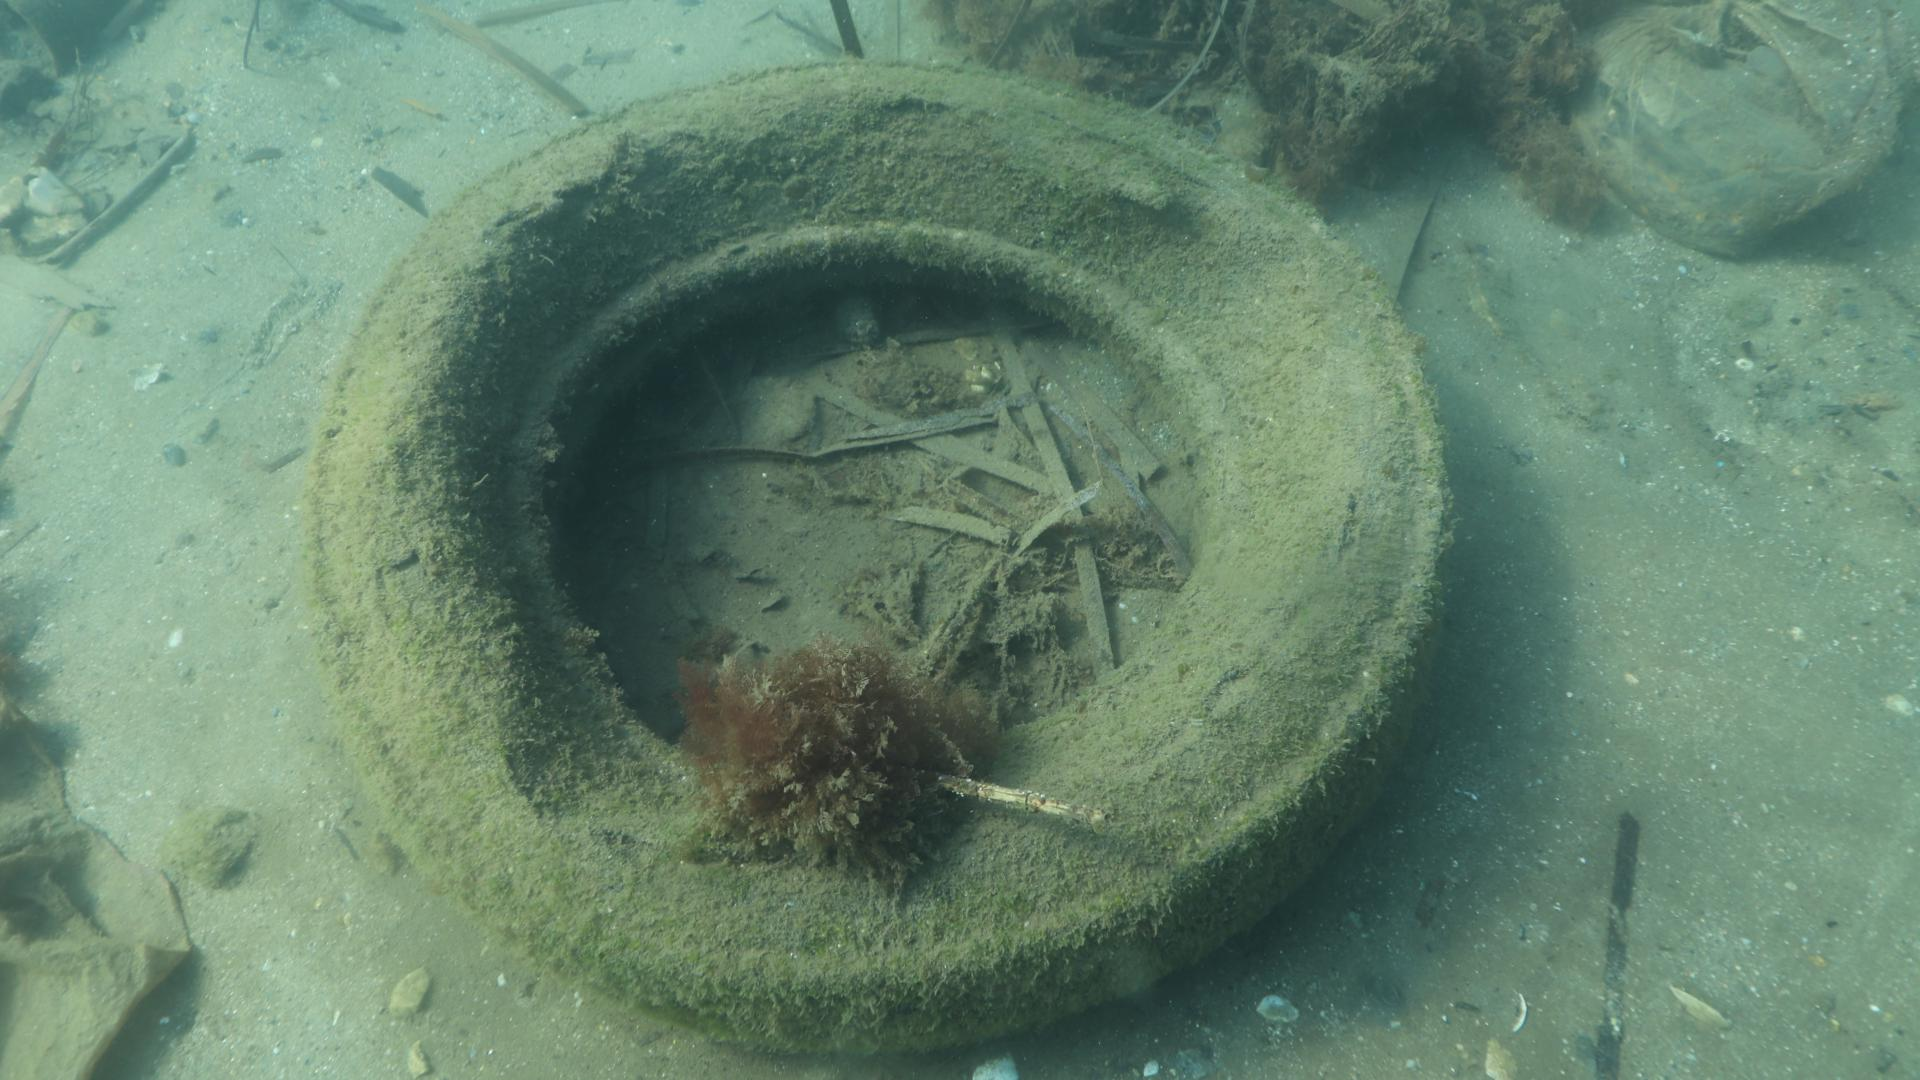tire: (298, 61, 1455, 1058)
